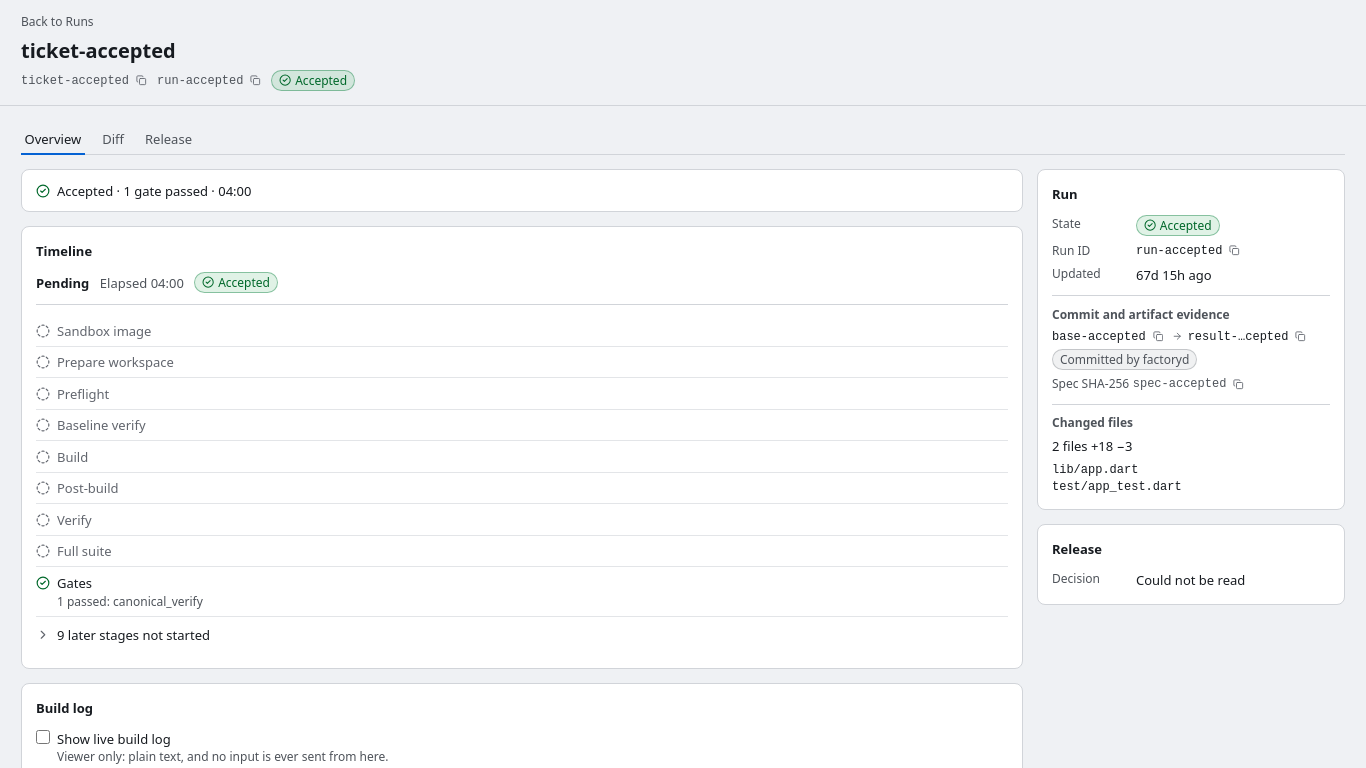
Scenario: truncated diff shows a warning banner
Click the tab "Diff".
click(113, 140)  # box [99, 124, 128, 155]
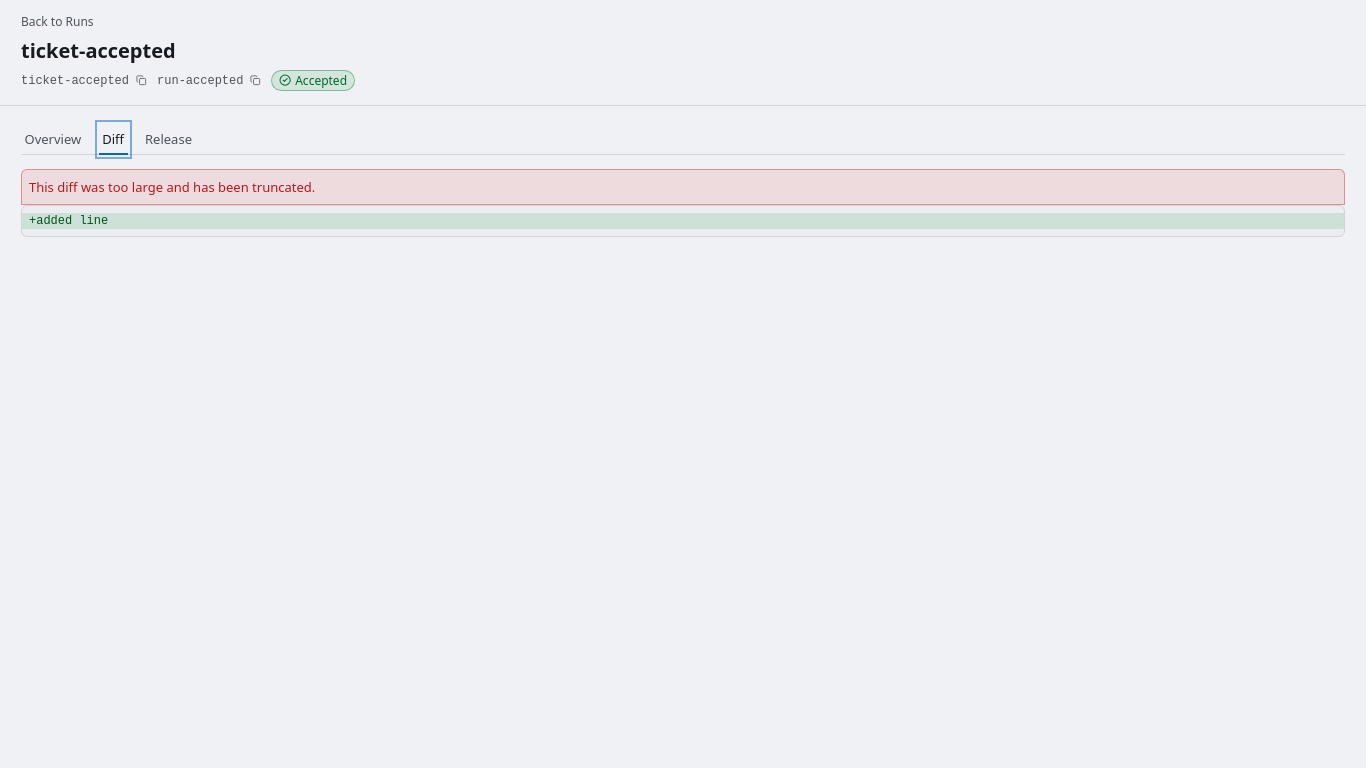
Result: the text "This diff was too large and has been truncated." is shown at [21, 169, 1345, 205]
Result: the text "+added line" is shown at [22, 213, 1344, 229]
